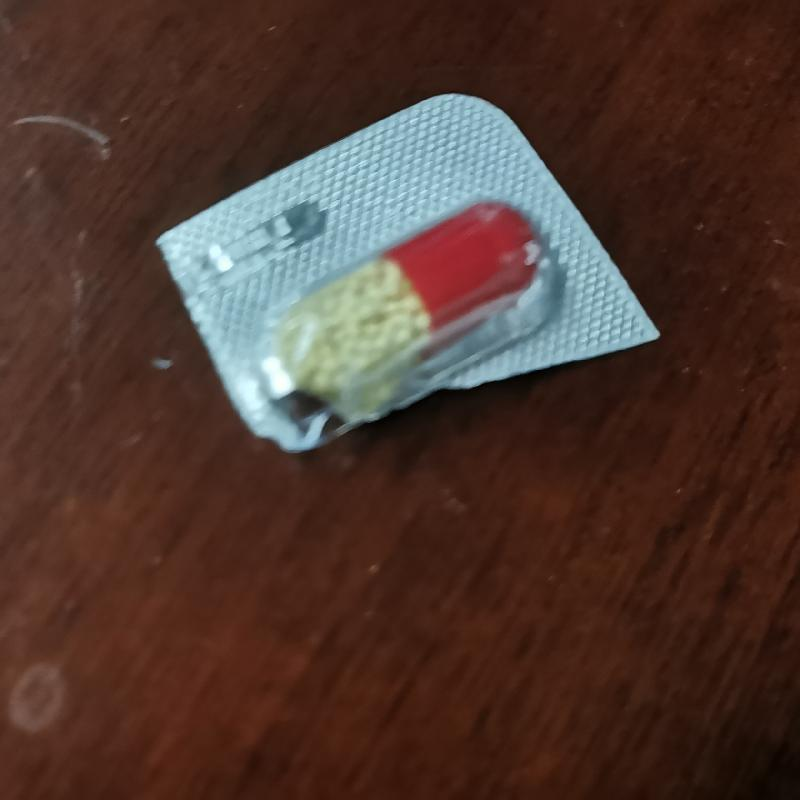pills: (265, 200, 545, 410)
